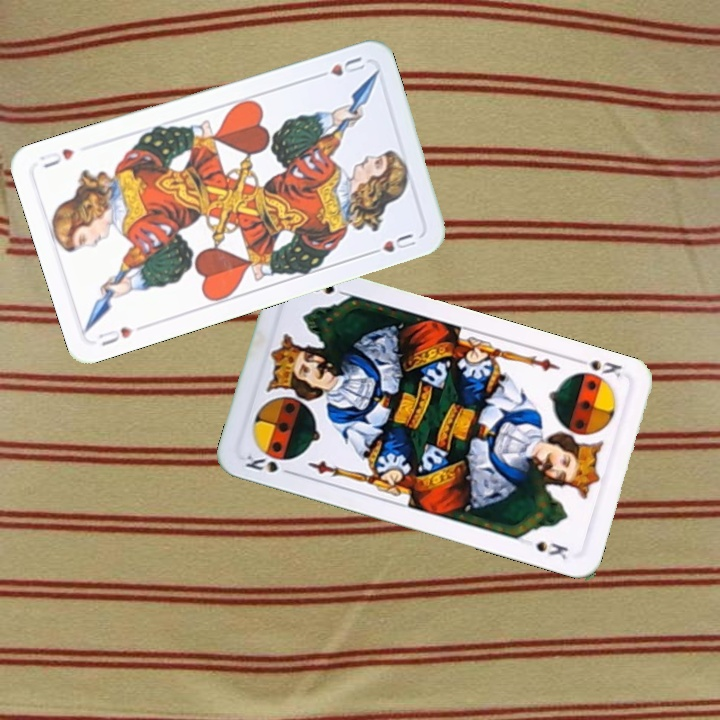HU: (310, 52, 368, 82), (94, 323, 136, 349)
SK: (241, 450, 297, 478), (571, 354, 625, 380)
